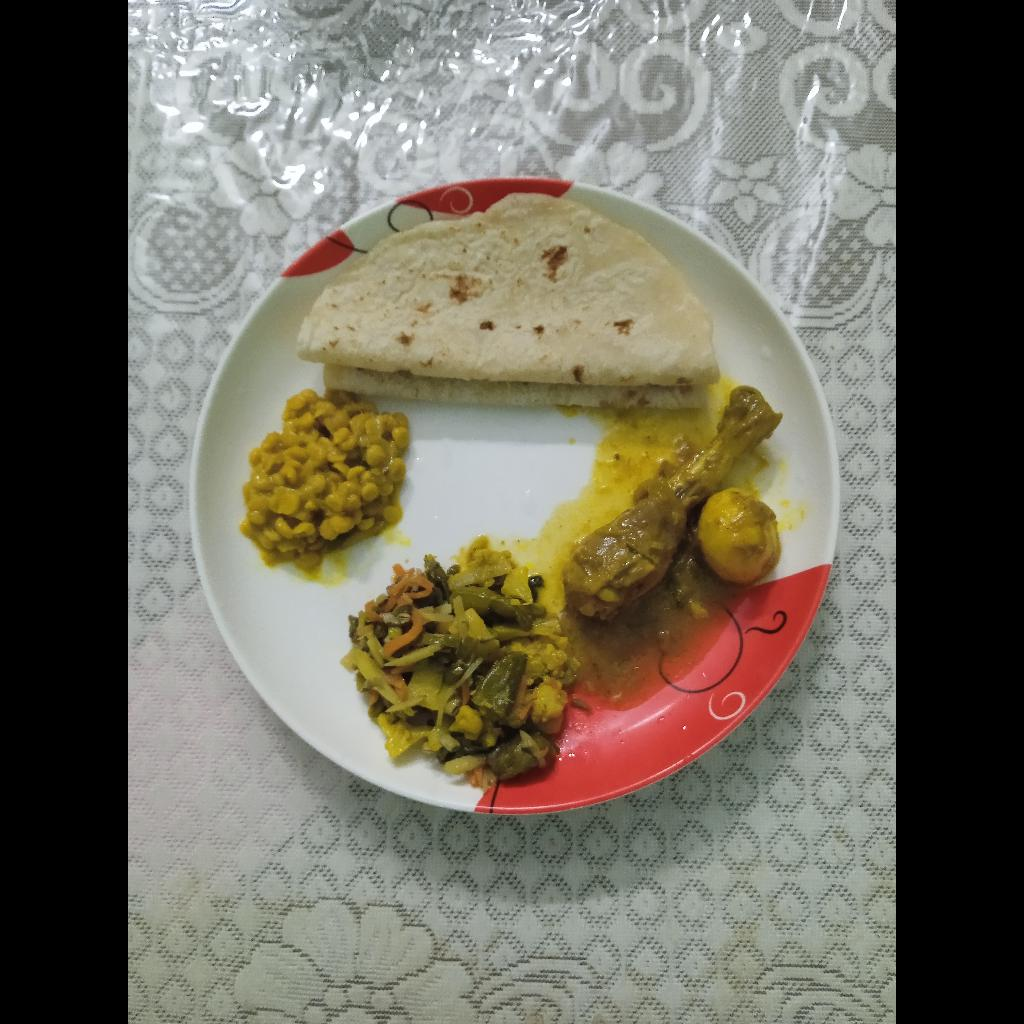chicken: (559, 389, 781, 618)
daal: (242, 391, 412, 553)
potato: (698, 487, 782, 584)
ruti: (301, 193, 710, 410)
vegetable: (346, 538, 569, 788)
